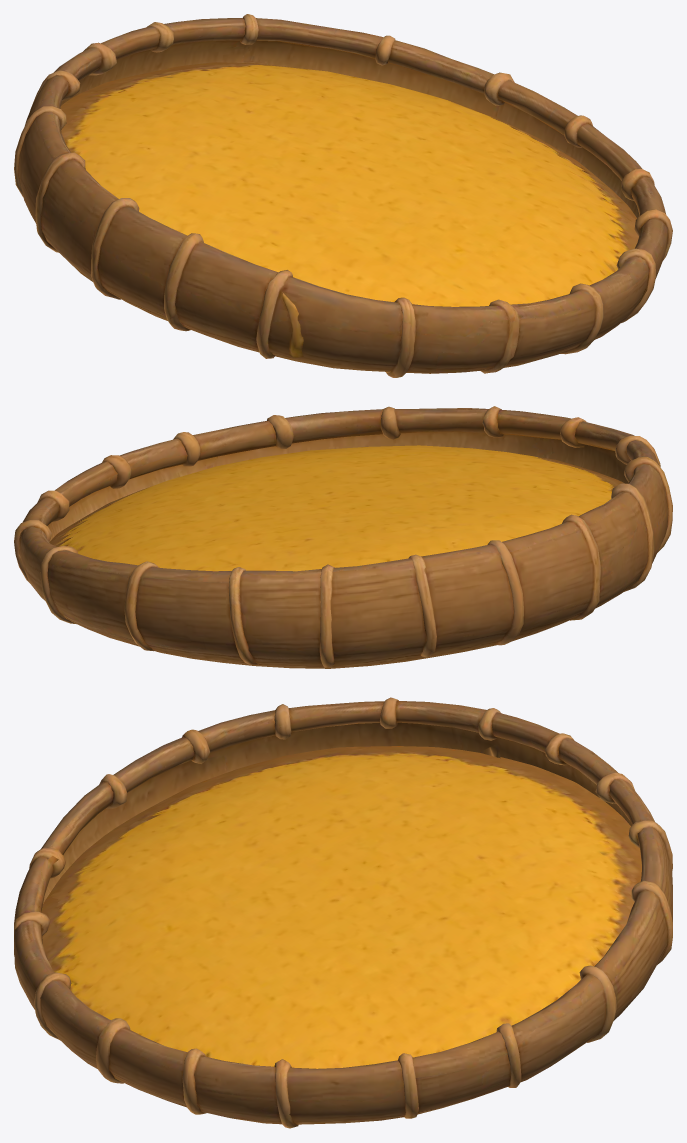
The model's file is rice-tray.glb.
The picture shows the model from 3 angles, top to bottom: view 1: azimuth 30°, elevation 25°; view 2: azimuth 150°, elevation 25°; view 3: azimuth 270°, elevation 25°; orthographic projection. The views are drawn at different scales.
Visible parts, largest first — view 1: geometry_0; view 2: geometry_0; view 3: geometry_0.
Part boxes in pixels (left/top/right/bottom): geometry_0: left=14, top=14, right=672, bottom=377; geometry_0: left=14, top=406, right=672, bottom=668; geometry_0: left=14, top=697, right=672, bottom=1128.
Size of the model in its own units: 1 by 0.3413 by 1.
Materials: 1 (1 with a texture image).
